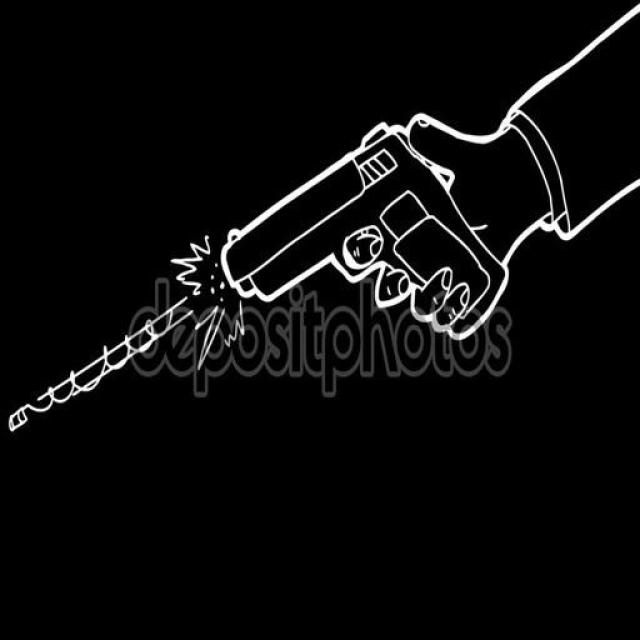pistol: (219, 115, 513, 359)
